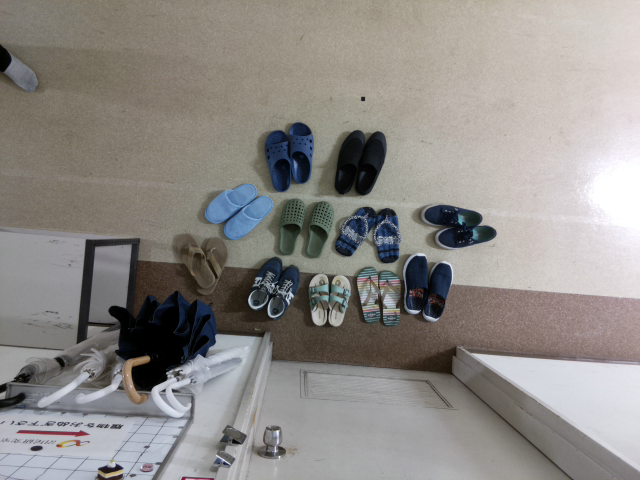Copy of Copy of Copy of Copy of Copy of Copy of Copy of Copy of Copy of Copy of: (167, 231, 220, 294), (218, 191, 281, 244), (200, 177, 263, 229), (415, 196, 492, 237), (427, 214, 504, 255), (189, 234, 233, 303), (303, 266, 339, 330), (268, 260, 304, 323), (247, 254, 283, 317)
Copy of Copy of Copy of Copy of Copy of Copy of Copy of Copy of Copy of shoe: (320, 272, 356, 335)
Copy of Copy of Copy of Copy of Copy of Copy of Copy of Copy of shoe: (353, 261, 389, 324)
Copy of Copy of Copy of Copy of Copy of Copy of Copy of shoe: (368, 265, 404, 328)
Copy of Copy of Copy of Copy of Copy of Copy of shoe: (396, 249, 432, 312)
Copy of Copy of Copy of Copy of Copy of shoe: (422, 261, 458, 325)
Copy of Copy of Copy of Copy of shoe: (367, 203, 403, 266)
Copy of Copy of Copy of Copy of umbrella: (1, 317, 114, 418)
Copy of Copy of Copy of shoe: (354, 125, 390, 197)
Copy of Copy of Copy of umbrella: (39, 326, 122, 419)
Copy of Copy of shoe: (328, 126, 364, 198)
Copy of Copy of umbrella: (70, 327, 153, 420)
Copy of shoe: (279, 115, 316, 187)
Copy of umbrella: (107, 285, 220, 412)
foot: (1, 43, 54, 104)
shoe: (258, 124, 295, 196)
umbrella: (140, 337, 259, 424)
